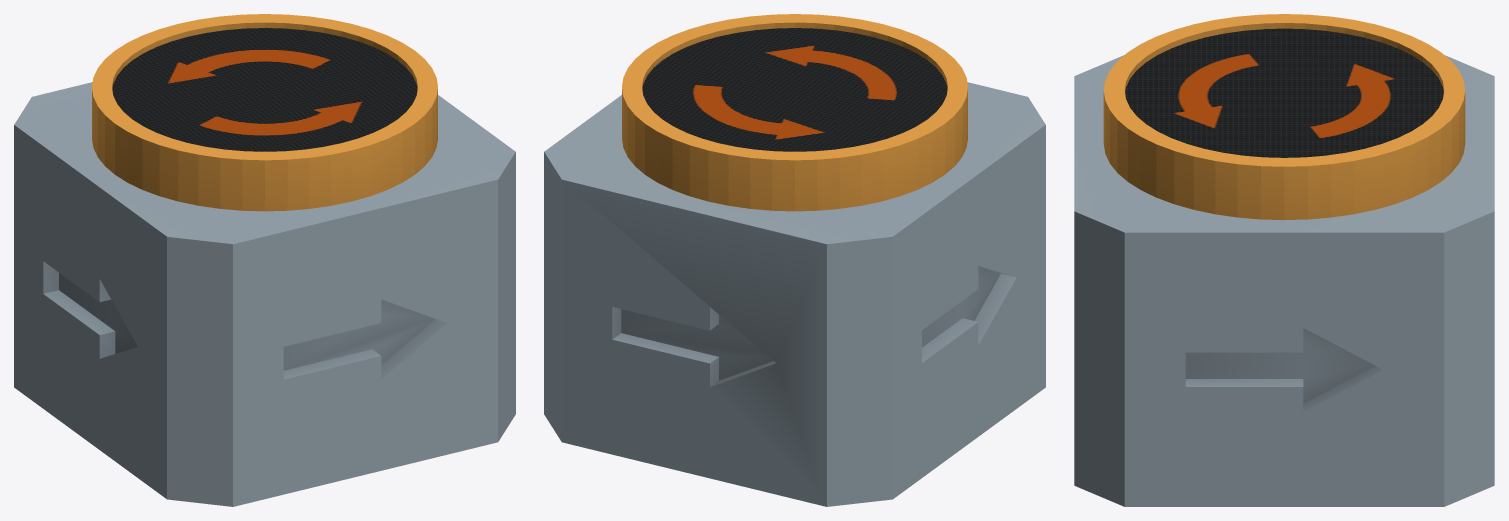
3 renders of one model, left to right at view 1: azimuth 30°, elevation 25°; view 2: azimuth 150°, elevation 25°; view 3: azimuth 270°, elevation 25°, orthographic. The views are drawn at different scales.
Visible parts, largest first — view 1: Part_Base, Part_Disk, Part_Orange; view 2: Part_Base, Part_Disk, Part_Orange; view 3: Part_Base, Part_Disk, Part_Orange.
Part boxes in pixels (x1,y1,x2,y2): Part_Base: (14, 82, 515, 506); Part_Disk: (112, 28, 417, 151); Part_Orange: (92, 14, 437, 211); Part_Base: (544, 82, 1045, 506); Part_Disk: (642, 28, 947, 151); Part_Orange: (622, 14, 967, 211); Part_Base: (1074, 55, 1494, 506); Part_Disk: (1125, 28, 1443, 157); Part_Orange: (1103, 14, 1465, 220).
Size of the model in its own units: 1 by 0.86 by 1.
4 materials, 1 textured.
